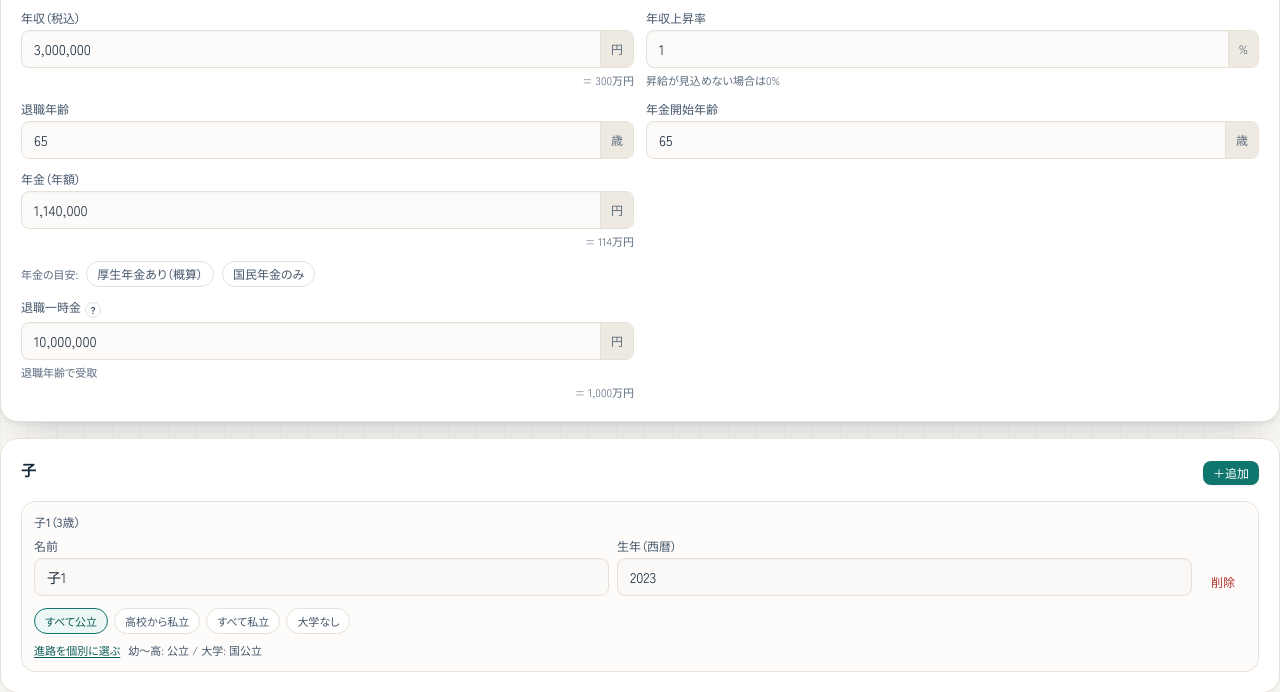
子カードの識別（lp-021 / issue #21） › 追加した子の既定名が連番になり、見出しで区別できる
The image size is (1280, 692).
(page scrolled)
Click the button "＋追加" at x=1231, y=473, box [1203, 461, 1259, 485]
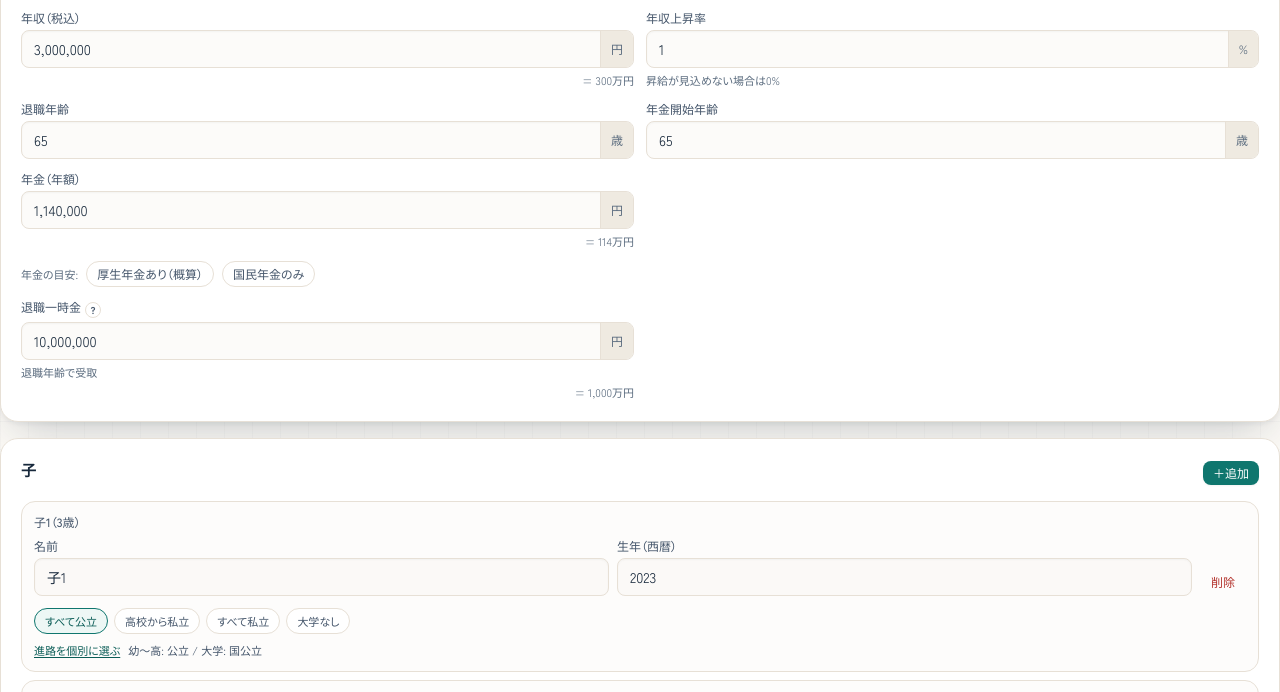
Click the button "＋追加" at x=1231, y=473, box [1203, 461, 1259, 485]
(page scrolled)
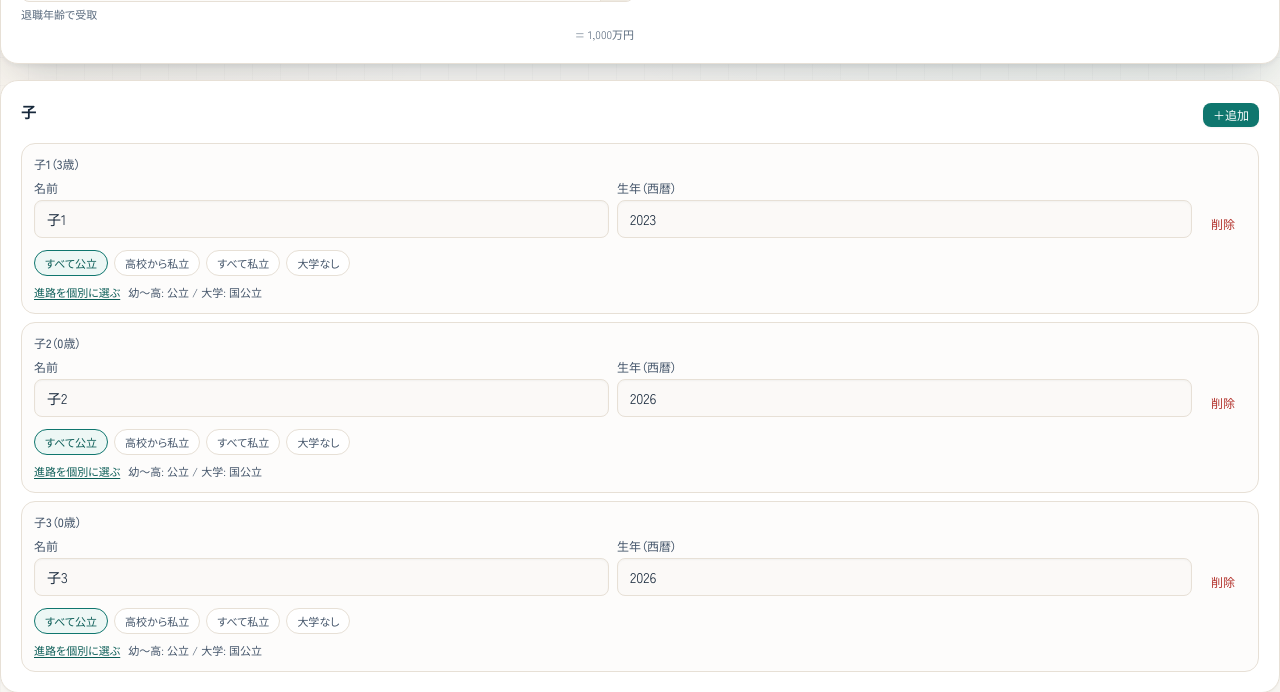
expect the heading "子1（3歳）" is shown: met, box [34, 155, 81, 172]
expect the heading "子2（0歳）" is shown: met, box [34, 334, 81, 351]
expect the heading "子3（0歳）" is shown: met, box [34, 513, 82, 530]
